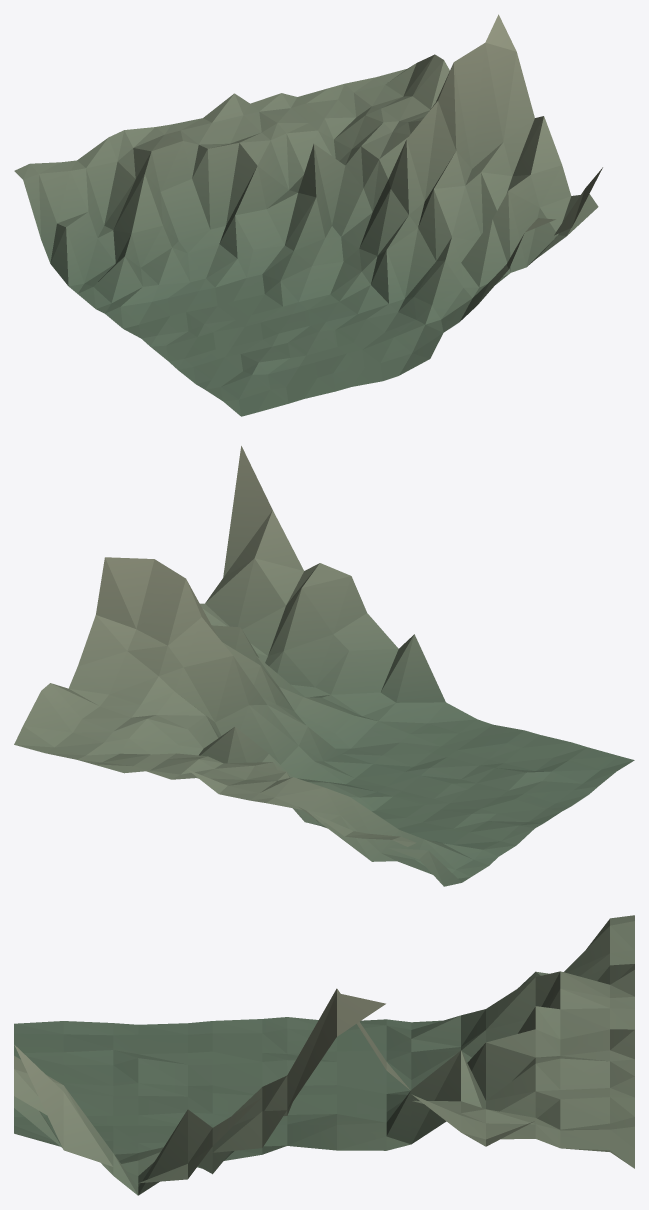
The model's file is tile_1_2.glb.
3 views of the same model, one above another, from view 1: azimuth 30°, elevation 25°; view 2: azimuth 150°, elevation 25°; view 3: azimuth 270°, elevation 25° (orthographic). The views are drawn at different scales.
Parts seen in each view (by area): view 1: geometry_0; view 2: geometry_0; view 3: geometry_0.
Part boxes in pixels (x1,y1,x2,y2): geometry_0: (14, 14, 602, 416); geometry_0: (14, 446, 634, 886); geometry_0: (14, 915, 634, 1195).
Size of the model in its own units: 123 by 65.36 by 123.
